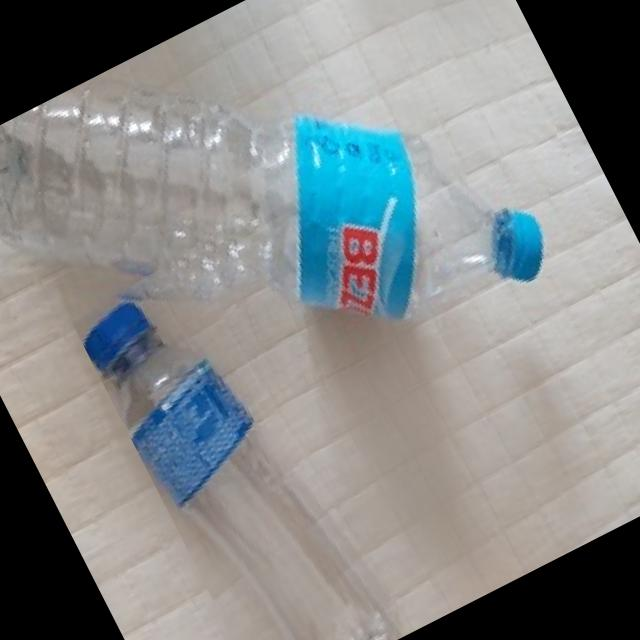plastic bottle: (0, 0, 561, 508), (65, 235, 414, 640)
